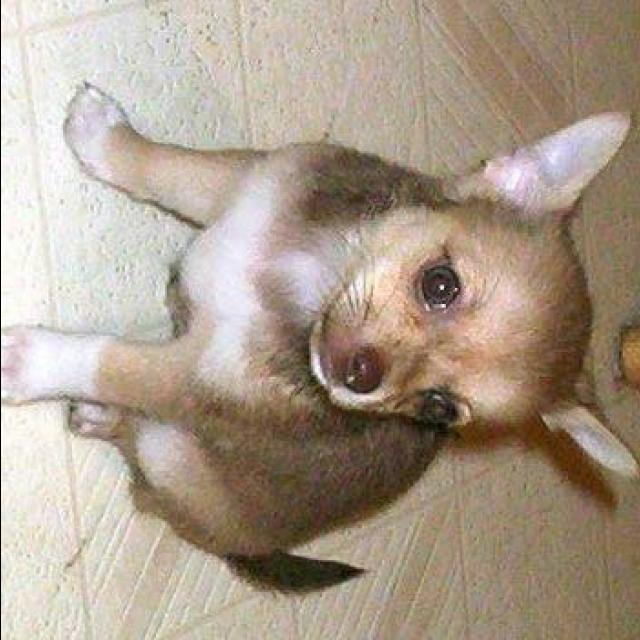chihuahua: (2, 64, 634, 606)
